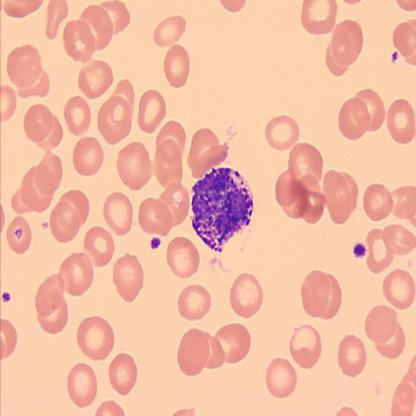Basophil: (188, 162, 254, 254)
